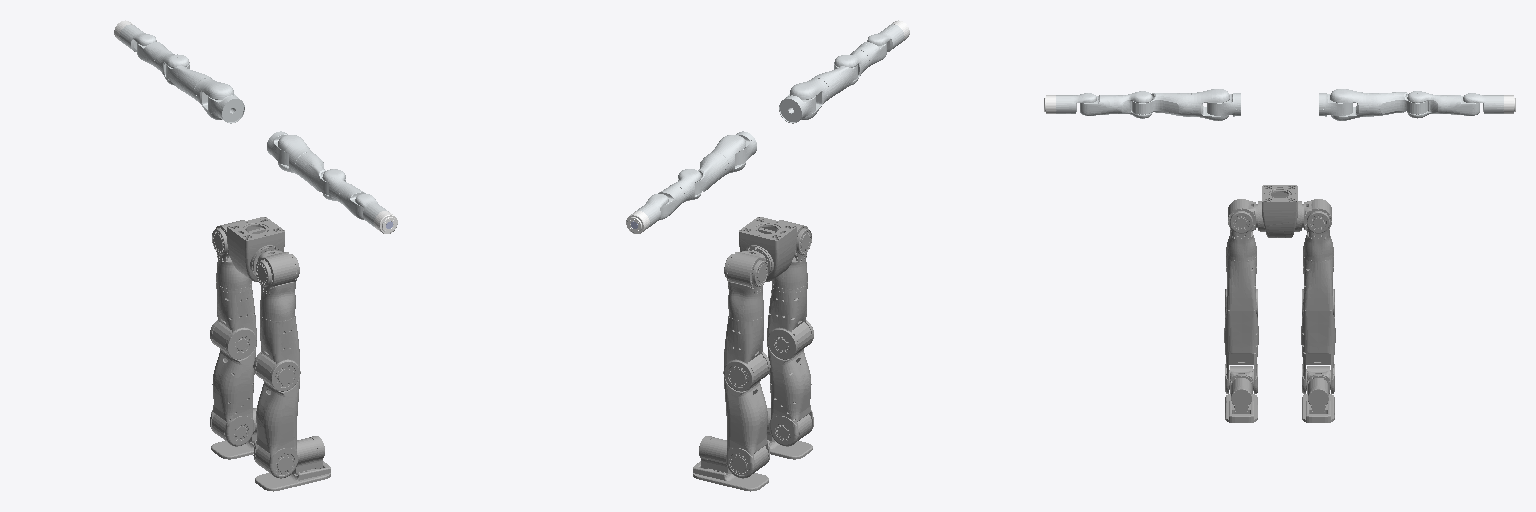
--- What the picture shows (computed from the rendered views, not written in the file) ---
The picture shows the robot from 3 angles, left to right: view 1: azimuth 30°, elevation 25°; view 2: azimuth 150°, elevation 25°; view 3: azimuth 270°, elevation 25°; orthographic projection.
Robot: jaka_humanoid — 31 links, 30 joints (12 revolute, 18 fixed); root link base_geom; default pose: all joints at 0.
Visible links, largest first — view 1: right_knee_link, left_knee_link, right_hip_yaw_link, left_hip_yaw_link, base_link, right_ankle_roll_link, right_hip_roll_link, left_hip_roll_link, right_hip_pitch_link, arm-r3, arm-l2, arm-l1 (+6 smaller); view 2: left_knee_link, right_knee_link, left_hip_yaw_link, right_hip_yaw_link, base_link, left_ankle_roll_link, left_hip_roll_link, right_hip_roll_link, left_hip_pitch_link, arm-l3, arm-r2, arm-r1 (+6 smaller); view 3: base_link, left_knee_link, right_knee_link, left_hip_yaw_link, right_hip_yaw_link, left_ankle_roll_link, right_ankle_roll_link, left_hip_roll_link, right_hip_roll_link, arm-l3, arm-r3, arm-l2 (+9 smaller).
Link boxes in pixels (left/top/right/bottom): right_knee_link: left=253, top=354, right=300, bottom=478; left_knee_link: left=210, top=322, right=256, bottom=446; right_hip_yaw_link: left=253, top=315, right=299, bottom=391; left_hip_yaw_link: left=210, top=282, right=256, bottom=359; base_link: left=227, top=217, right=284, bottom=281; right_ankle_roll_link: left=255, top=436, right=330, bottom=491; right_hip_roll_link: left=256, top=254, right=299, bottom=320; left_hip_roll_link: left=212, top=228, right=251, bottom=288; right_hip_pitch_link: left=258, top=250, right=296, bottom=287; arm-r3: left=295, top=152, right=345, bottom=194; arm-l2: left=194, top=78, right=233, bottom=119; arm-l1: left=208, top=94, right=244, bottom=123; left_knee_link: left=723, top=354, right=769, bottom=478; right_knee_link: left=767, top=322, right=813, bottom=446; left_hip_yaw_link: left=724, top=315, right=770, bottom=391; right_hip_yaw_link: left=767, top=282, right=813, bottom=359; base_link: left=739, top=217, right=796, bottom=281; left_ankle_roll_link: left=693, top=436, right=768, bottom=491; left_hip_roll_link: left=724, top=254, right=767, bottom=320; right_hip_roll_link: left=772, top=228, right=811, bottom=288; left_hip_pitch_link: left=727, top=250, right=765, bottom=287; arm-l3: left=678, top=152, right=728, bottom=194; arm-r2: left=790, top=78, right=829, bottom=119; arm-r1: left=779, top=94, right=815, bottom=123; base_link: left=1256, top=185, right=1303, bottom=237; left_knee_link: left=1301, top=310, right=1335, bottom=393; right_knee_link: left=1224, top=310, right=1258, bottom=393; left_hip_yaw_link: left=1302, top=256, right=1334, bottom=317; right_hip_yaw_link: left=1225, top=256, right=1257, bottom=317; left_ankle_roll_link: left=1302, top=378, right=1334, bottom=422; right_ankle_roll_link: left=1225, top=378, right=1257, bottom=422; left_hip_roll_link: left=1303, top=211, right=1333, bottom=260; right_hip_roll_link: left=1226, top=211, right=1256, bottom=260; arm-l3: left=1369, top=92, right=1427, bottom=116; arm-r3: left=1132, top=93, right=1190, bottom=116; arm-l2: left=1330, top=89, right=1368, bottom=120.
Bounding box of the posed robot: 0.3 × 2.05 × 1.49 m (x, y, z).
Meshes: 30 distinct files referenced, 29 mesh visuals loaded (29 binary STL); not drawn: 1 (reference not matched to a file when rendering).

URDF robot description (jaka_humanoid):
<?xml version="1.0" encoding="utf-8"?>
<!-- This URDF was automatically created by SolidWorks to URDF Exporter! Originally created by Stephen Brawner ([email redacted]) 
     Commit Version: 1.6.0-4-g7f85cfe  Build Version: 1.6.7995.38578
     For more information, please see http://wiki.ros.org/sw_urdf_exporter -->
<robot
  name="jaka_humanoid">

  <link name="base_geom">
  </link>
  <joint name="base_fixed_joint" type="fixed">
    <origin xyz="0 0 0" rpy="0 0 -1.5708"/>
    <parent link="base_geom"/>
    <child link="base_link"/>
  </joint>


  <link
    name="base_link">
    <inertial>
      <origin
        xyz="3.56051837431537E-06 0.000113782895444087 0.0103683192174064"
        rpy="0 0 0" />
      <mass
        value="8.534795777719" />
      <inertia
        ixx="0.0313527429203055"
        ixy="-1.01541581029892E-06"
        ixz="-1.07263922262646E-06"
        iyy="0.0504190458696739"
        iyz="-8.99294508164332E-05"
        izz="0.0475793827870453" />
    </inertial>
    <visual>
      <origin
        xyz="0 0 0"
        rpy="0 0 0" />
      <geometry>
        <mesh
          filename="package://jaka_humanoid/meshes/base_link.STL" />
      </geometry>
      <material
        name="">
        <color
          rgba="0.698039215686274 0.698039215686274 0.698039215686274 1" />
      </material>
    </visual>
    <!-- <collision>
      <origin
        xyz="0 0 0"
        rpy="0 0 0" />
      <geometry>
        <mesh
          filename="package://jaka_humanoid/meshes/base_link.STL" />
      </geometry>
    </collision> -->
  </link>
  <link
    name="left_hip_pitch_link">
    <inertial>
      <origin
        xyz="-6.92170643301626E-08 -1.51282743337602E-05 0.059552778136023"
        rpy="0 0 0" />
      <mass
        value="3.9634339446951" />
      <inertia
        ixx="0.00771849424837419"
        ixy="-8.53395660232772E-07"
        ixz="1.46949827377146E-09"
        iyy="0.00782429269137684"
        iyz="2.08211386353778E-06"
        izz="0.00773849877963618" />
    </inertial>
    <visual>
      <origin
        xyz="0 0 0"
        rpy="0 0 0" />
      <geometry>
        <mesh
          filename="package://jaka_humanoid/meshes/LINK_L1.STL" />
      </geometry>
      <material
        name="">
        <color
          rgba="0.698039215686274 0.698039215686274 0.698039215686274 1" />
      </material>
    </visual>
    <collision>
      <origin
        xyz="0 0 0"
        rpy="0 0 0" />
      <geometry>
        <mesh
          filename="package://jaka_humanoid/meshes/LINK_L1.STL" />
      </geometry>
    </collision>
  </link>
  <joint
    name="left_hip_pitch_joint"
    type="revolute">
    <origin
      xyz="-0.106 0 0"
      rpy="3.1416 1.5708 0" />
    <parent
      link="base_link" />
    <child
      link="left_hip_pitch_link" />
    <axis
      xyz="0 0 1" />
    <limit
      lower="-2"
      upper="2"
      effort="500"
      velocity="30" />
  </joint>
  <link
    name="left_hip_roll_link">
    <inertial>
      <origin
        xyz="-0.00161389199959538 0.109413538339146 0.000486968452788193"
        rpy="0 0 0" />
      <mass
        value="3.77738840138226" />
      <inertia
        ixx="0.017398908144898"
        ixy="-0.000311849670723211"
        ixz="1.39056091881881E-05"
        iyy="0.0097749180467322"
        iyz="-0.000414031288516339"
        izz="0.0146465644838559" />
    </inertial>
    <visual>
      <origin
        xyz="0 0 0"
        rpy="0 0 0" />
      <geometry>
        <mesh
          filename="package://jaka_humanoid/meshes/LINK_L2.STL" />
      </geometry>
      <material
        name="">
        <color
          rgba="0.698039215686274 0.698039215686274 0.698039215686274 1" />
      </material>
    </visual>
    <!-- <collision>
      <origin
        xyz="0 0 0"
        rpy="0 0 0" />
      <geometry>
        <mesh
          filename="package://jaka_humanoid/meshes/LINK_L2.STL" />
      </geometry>
    </collision> -->
  </link>
  <joint
    name="left_hip_roll_joint"
    type="revolute">
    <origin
      xyz="0 0 0.061"
      rpy="1.5708 1.5708 0" />
    <parent
      link="left_hip_pitch_link" />
    <child
      link="left_hip_roll_link" />
    <axis
      xyz="0 0 1" />
    <limit
      lower="-2"
      upper="2"
      effort="500"
      velocity="30" />
  </joint>
  <link
    name="left_hip_yaw_link">
    <inertial>
      <origin
        xyz="0.000700320772332008 0.00969139564417535 -0.135462623259175"
        rpy="0 0 0" />
      <mass
        value="3.59262397650648" />
      <inertia
        ixx="0.0302831726867375"
        ixy="2.76348322471797E-05"
        ixz="0.000252356115220069"
        iyy="0.0324036832512038"
        iyz="0.00149317453880794"
        izz="0.014224840085199" />
    </inertial>
    <visual>
      <origin
        xyz="0 0 0"
        rpy="0 0 0" />
      <geometry>
        <mesh
          filename="package://jaka_humanoid/meshes/LINK_L3.STL" />
      </geometry>
      <material
        name="">
        <color
          rgba="0.698039215686274 0.698039215686274 0.698039215686274 1" />
      </material>
    </visual>
    <collision>
      <origin
        xyz="0 0 0"
        rpy="0 0 0" />
      <geometry>
        <mesh
          filename="package://jaka_humanoid/meshes/LINK_L3.STL" />
      </geometry>
    </collision>
  </link>
  <joint
    name="left_hip_yaw_joint"
    type="revolute">
    <origin
      xyz="0 0.183 0"
      rpy="1.5708 0 0" />
    <parent
      link="left_hip_roll_link" />
    <child
      link="left_hip_yaw_link" />
    <axis
      xyz="0 0 1" />
    <limit
      lower="-2"
      upper="2"
      effort="500"
      velocity="30" />
  </joint>
  <link
    name="left_knee_link">
    <inertial>
      <origin
        xyz="0.111701578307267 0.00355403504398386 0.0512295108100788"
        rpy="0 0 0" />
      <mass
        value="8.60818099327112" />
      <inertia
        ixx="0.0274097334369474"
        ixy="0.00545179651823928"
        ixz="0.000199884218813842"
        iyy="0.168526145595671"
        iyz="-1.74301620560199E-06"
        izz="0.165681955419885" />
    </inertial>
    <visual>
      <origin
        xyz="0 0 0"
        rpy="0 0 0" />
      <geometry>
        <mesh
          filename="package://jaka_humanoid/meshes/LINK_L4.STL" />
      </geometry>
      <material
        name="">
        <color
          rgba="0.698039215686274 0.698039215686274 0.698039215686274 1" />
      </material>
    </visual>
    <!-- <collision>
      <origin
        xyz="0 0 0"
        rpy="0 0 0" />
      <geometry>
        <mesh
          filename="package://jaka_humanoid/meshes/LINK_L4.STL" />
      </geometry>
    </collision> -->
  </link>
  <joint
    name="left_knee_joint"
    type="revolute">
    <origin
      xyz="-0.0516 -0.005 -0.237"
      rpy="0 1.5708 0" />
    <parent
      link="left_hip_yaw_link" />
    <child
      link="left_knee_link" />
    <axis
      xyz="0 0 -1" />
    <limit
      lower="-2"
      upper="2"
      effort="500"
      velocity="30" />
  </joint>
  <link
    name="left_ankle_pitch_link">
    <inertial>
      <origin
        xyz="6.62661078232318E-08 0.00426165224024064 0.0516144830011017"
        rpy="0 0 0" />
      <mass
        value="4.14002049154091" />
      <inertia
        ixx="0.0085990272817376"
        ixy="2.24142896102055E-09"
        ixz="-8.53395641261122E-07"
        iyy="0.00802808945553078"
        iyz="2.25086671400731E-06"
        izz="0.00870709893558791" />
    </inertial>
    <visual>
      <origin
        xyz="0 0 0"
        rpy="0 0 0" />
      <geometry>
        <mesh
          filename="package://jaka_humanoid/meshes/LINK_L5.STL" />
      </geometry>
      <material
        name="">
        <color
          rgba="0.698039215686274 0.698039215686274 0.698039215686274 1" />
      </material>
    </visual>
    <!-- <collision>
      <origin
        xyz="0 0 0"
        rpy="0 0 0" />
      <geometry>
        <mesh
          filename="package://jaka_humanoid/meshes/LINK_L5.STL" />
      </geometry>
    </collision> -->
  </link>
  <joint
    name="left_ankle_pitch_joint"
    type="revolute">
    <origin
      xyz="0.37 -0.005 0"
      rpy="0 0 0" />
    <parent
      link="left_knee_link" />
    <child
      link="left_ankle_pitch_link" />
    <axis
      xyz="0 0 -1" />
    <limit
      lower="-2"
      upper="2"
      effort="500"
      velocity="30" />
  </joint>
  <link
    name="left_ankle_roll_link">
    <inertial>
      <origin
        xyz="5.58153339869083E-06 0.0507733542549267 -0.0331828584344808"
        rpy="0 0 0" />
      <mass
        value="4.46370362417452" />
      <inertia
        ixx="0.0280531352875821"
        ixy="-5.78611601880667E-07"
        ixz="7.74244017617182E-07"
        iyy="0.0225586720016511"
        iyz="-0.00350808779823298"
        izz="0.0150950458764849" />
    </inertial>
    <visual>
      <origin
        xyz="0 0 0"
        rpy="0 0 0" />
      <geometry>
        <mesh
          filename="package://jaka_humanoid/meshes/LINK_L6.STL" />
      </geometry>
      <material
        name="">
        <color
          rgba="0.698039215686274 0.698039215686274 0.698039215686274 1" />
      </material>
    </visual>
    <collision>
      <origin
        xyz="0 0 0"
        rpy="0 0 0" />
      <geometry>
        <mesh
          filename="package://jaka_humanoid/meshes/LINK_L6.STL" />
      </geometry>
    </collision>
  </link>
  <joint
    name="left_ankle_roll_joint"
    type="revolute">
    <origin
      xyz="0 0.0725 0.0516"
      rpy="1.5708 1.5708 0" />
    <parent
      link="left_ankle_pitch_link" />
    <child
      link="left_ankle_roll_link" />
    <axis
      xyz="0 0 -1" />
    <limit
      lower="-2"
      upper="2"
      effort="500"
      velocity="30" />
  </joint>
  <link
    name="right_hip_pitch_link">
    <inertial>
      <origin
        xyz="6.92164925653049E-08 1.51282748375031E-05 0.0595527781372258"
        rpy="0 0 0" />
      <mass
        value="3.96343394458631" />
      <inertia
        ixx="0.00771849424840239"
        ixy="-8.53395477027585E-07"
        ixz="-1.46959496734758E-09"
        iyy="0.0078242926913489"
        iyz="-2.08211379955066E-06"
        izz="0.00773849877951949" />
    </inertial>
    <visual>
      <origin
        xyz="0 0 0"
        rpy="0 0 0" />
      <geometry>
        <mesh
          filename="package://jaka_humanoid/meshes/LINK_R1.STL" />
      </geometry>
      <material
        name="">
        <color
          rgba="0.698039215686274 0.698039215686274 0.698039215686274 1" />
      </material>
    </visual>
    <collision>
      <origin
        xyz="0 0 0"
        rpy="0 0 0" />
      <geometry>
        <mesh
          filename="package://jaka_humanoid/meshes/LINK_R1.STL" />
      </geometry>
    </collision>
  </link>
  <joint
    name="right_hip_pitch_joint"
    type="revolute">
    <origin
      xyz="0.106 0 0"
      rpy="0 1.5708 0" />
    <parent
      link="base_link" />
    <child
      link="right_hip_pitch_link" />
    <axis
      xyz="0 0 -1" />
    <limit
      lower="-2"
      upper="2"
      effort="500"
      velocity="30" />
  </joint>
  <link
    name="right_hip_roll_link">
    <inertial>
      <origin
        xyz="-0.0016146123021254 0.10941376048029 -0.000488039420374099"
        rpy="0 0 0" />
      <mass
        value="3.7773115346162" />
      <inertia
        ixx="0.0173986187585205"
        ixy="-0.000311962535762005"
        ixz="-1.36546661845248E-05"
        iyy="0.00977467337602778"
        iyz="0.000413945427803824"
        izz="0.0146463881285214" />
    </inertial>
    <visual>
      <origin
        xyz="0 0 0"
        rpy="0 0 0" />
      <geometry>
        <mesh
          filename="package://jaka_humanoid/meshes/LINK_R2.STL" />
      </geometry>
      <material
        name="">
        <color
          rgba="0.698039215686274 0.698039215686274 0.698039215686274 1" />
      </material>
    </visual>
    <!-- <collision>
      <origin
        xyz="0 0 0"
        rpy="0 0 0" />
      <geometry>
        <mesh
          filename="package://jaka_humanoid/meshes/LINK_R2.STL" />
      </geometry>
    </collision> -->
  </link>
  <joint
    name="right_hip_roll_joint"
    type="revolute">
    <origin
      xyz="0 0 0.061"
      rpy="1.5708 1.5708 0" />
    <parent
      link="right_hip_pitch_link" />
    <child
      link="right_hip_roll_link" />
    <axis
      xyz="0 0 -1" />
    <limit
      lower="-2"
      upper="2"
      effort="500"
      velocity="30" />
  </joint>
  <link
    name="right_hip_yaw_link">
    <inertial>
      <origin
        xyz="0.000694563219510266 0.00968700464199349 0.135454808018665"
        rpy="0 0 0" />
      <mass
        value="3.59228381979526" />
      <inertia
        ixx="0.0302813066755261"
        ixy="2.86623051709676E-05"
        ixz="-0.000252080563411604"
        iyy="0.0324025678598891"
        iyz="-0.00149175894663388"
        izz="0.0142239522611104" />
    </inertial>
    <visual>
      <origin
        xyz="0 0 0"
        rpy="0 0 0" />
      <geometry>
        <mesh
          filename="package://jaka_humanoid/meshes/LINK_R3.STL" />
      </geometry>
      <material
        name="">
        <color
          rgba="0.698039215686274 0.698039215686274 0.698039215686274 1" />
      </material>
    </visual>
    <collision>
      <origin
        xyz="0 0 0"
        rpy="0 0 0" />
      <geometry>
        <mesh
          filename="package://jaka_humanoid/meshes/LINK_R3.STL" />
      </geometry>
    </collision>
  </link>
  <joint
    name="right_hip_yaw_joint"
    type="revolute">
    <origin
      xyz="0 0.183 0"
      rpy="-1.5708 0 0" />
    <parent
      link="right_hip_roll_link" />
    <child
      link="right_hip_yaw_link" />
    <axis
      xyz="0 0 -1" />
    <limit
      lower="-2"
      upper="2"
      effort="500"
      velocity="30" />
  </joint>
  <link
    name="right_knee_link">
    <inertial>
      <origin
        xyz="-0.111706915749733 0.00355722916941977 0.0512342020264392"
        rpy="0 0 0" />
      <mass
        value="8.60704942954802" />
      <inertia
        ixx="0.0274095605302757"
        ixy="-0.00545320862710574"
        ixz="-0.000200202399919482"
        iyy="0.168527364558603"
        iyz="-4.61122421921428E-07"
        izz="0.165684270845229" />
    </inertial>
    <visual>
      <origin
        xyz="0 0 0"
        rpy="0 0 0" />
      <geometry>
        <mesh
          filename="package://jaka_humanoid/meshes/LINK_R4.STL" />
      </geometry>
      <material
        name="">
        <color
          rgba="0.698039215686274 0.698039215686274 0.698039215686274 1" />
      </material>
    </visual>
    <!-- <collision>
      <origin
        xyz="0 0 0"
        rpy="0 0 0" />
      <geometry>
        <mesh
          filename="package://jaka_humanoid/meshes/LINK_R4.STL" />
      </geometry>
    </collision> -->
  </link>
  <joint
    name="right_knee_joint"
    type="revolute">
    <origin
      xyz="-0.0516 -0.005 0.237"
      rpy="0 1.5708 0" />
    <parent
      link="right_hip_yaw_link" />
    <child
      link="right_knee_link" />
    <axis
      xyz="0 0 1" />
    <limit
      lower="-2"
      upper="2"
      effort="500"
      velocity="30" />
  </joint>
  <link
    name="right_ankle_pitch_link">
    <inertial>
      <origin
        xyz="6.626555804079E-08 0.00426165224182175 0.0516144830002066"
        rpy="0 0 0" />
      <mass
        value="4.14002049181103" />
      <inertia
        ixx="0.00859902728227488"
        ixy="2.24153874992742E-09"
        ixz="-8.53395935267242E-07"
        iyy="0.00802808945618975"
        iyz="2.25086689585563E-06"
        izz="0.00870709893603947" />
    </inertial>
    <visual>
      <origin
        xyz="0 0 0"
        rpy="0 0 0" />
      <geometry>
        <mesh
          filename="package://jaka_humanoid/meshes/LINK_R5.STL" />
      </geometry>
      <material
        name="">
        <color
          rgba="0.698039215686274 0.698039215686274 0.698039215686274 1" />
      </material>
    </visual>
    <!-- <collision>
      <origin
        xyz="0 0 0"
        rpy="0 0 0" />
      <geometry>
        <mesh
          filename="package://jaka_humanoid/meshes/LINK_R5.STL" />
      </geometry>
    </collision> -->
  </link>
  <joint
    name="right_ankle_pitch_joint"
    type="revolute">
    <origin
      xyz="-0.37 -0.005 0"
      rpy="0 0 0" />
    <parent
      link="right_knee_link" />
    <child
      link="right_ankle_pitch_link" />
    <axis
      xyz="0 0 1" />
    <limit
      lower="-2"
      upper="2"
      effort="500"
      velocity="30" />
  </joint>
  <link
    name="right_ankle_roll_link">
    <inertial>
      <origin
        xyz="5.58138622626381E-06 0.0507733541183104 -0.0331828582582943"
        rpy="0 0 0" />
      <mass
        value="4.46370359699783" />
      <inertia
        ixx="0.0280531352513672"
        ixy="-5.78596856192022E-07"
        ixz="7.74224976384728E-07"
        iyy="0.0225586719627204"
        iyz="-0.00350808781584849"
        izz="0.0150950458468419" />
    </inertial>
    <visual>
      <origin
        xyz="0 0 0"
        rpy="0 0 0" />
      <geometry>
        <mesh
          filename="package://jaka_humanoid/meshes/LINK_R6.STL" />
      </geometry>
      <material
        name="">
        <color
          rgba="0.698039215686274 0.698039215686274 0.698039215686274 1" />
      </material>
    </visual>
    <collision>
      <origin
        xyz="0 0 0"
        rpy="0 0 0" />
      <geometry>
        <mesh
          filename="package://jaka_humanoid/meshes/LINK_R6.STL" />
      </geometry>
    </collision>
  </link>
  <joint
    name="right_ankle_roll_joint"
    type="revolute">
    <origin
      xyz="0 0.0725 0.0516"
      rpy="1.5708 -1.5708 0" />
    <parent
      link="right_ankle_pitch_link" />
    <child
      link="right_ankle_roll_link" />
    <axis
      xyz="0 0 -1" />
    <limit
      lower="-2"
      upper="2"
      effort="500"
      velocity="30" />
  </joint>
  <link
    name="BODY_LINK">
    <inertial>
      <origin
        xyz="0.00013734007639013 -0.0111829713535279 0.265745363752393"
        rpy="0 0 0" />
      <mass
        value="33.7486973436404" />
      <inertia
        ixx="0.722787001654969"
        ixy="-4.25713904554049E-05"
        ixz="-0.00139461702876621"
        iyy="0.892302471227267"
        iyz="-0.0285817730855974"
        izz="0.348911176678323" />
    </inertial>
    <visual>
      <origin
        xyz="0 0 0"
        rpy="0 0 0" />
      <geometry>
        <mesh
          filename="package://jaka_humanoid/meshes/BODY_LINK.STL" />
      </geometry>
      <material
        name="">
        <color
          rgba="0.898039215686275 0.917647058823529 0.929411764705882 1" />
      </material>
    </visual>
    <collision>
      <origin
        xyz="0 0 0"
        rpy="0 0 0" />
      <geometry>
        <mesh
          filename="package://jaka_humanoid/meshes/BODY_LINK.STL" />
      </geometry>
    </collision>
  </link>
  <joint
    name="BODY_JOINT"
    type="fixed">
    <origin
      xyz="0 0 0.104"
      rpy="0 0 0" />
    <parent
      link="base_link" />
    <child
      link="BODY_LINK" />
    <axis
      xyz="0 0 1" />
    <limit
      lower="-2"
      upper="2"
      effort="500"
      velocity="30" />
  </joint>
  <link
    name="arm-l1">
    <inertial>
      <origin
        xyz="-2.46089330410704E-06 -2.84970787856054E-07 0.164287024146874"
        rpy="0 0 0" />
      <mass
        value="1.49079078470917" />
      <inertia
        ixx="0.00305951889689234"
        ixy="1.23224145484232E-07"
        ixz="4.7234806846658E-08"
        iyy="0.00378376232211114"
        iyz="-3.76862388057772E-08"
        izz="0.00212531859055584" />
    </inertial>
    <visual>
      <origin
        xyz="0 0 0"
        rpy="0 0 0" />
      <geometry>
        <mesh
          filename="package://jaka_humanoid/meshes/arm-l1.STL" />
      </geometry>
      <material
        name="">
        <color
          rgba="0.898039215686275 0.917647058823529 0.929411764705882 1" />
      </material>
    </visual>
    <collision>
      <origin
        xyz="0 0 0"
        rpy="0 0 0" />
      <geometry>
        <mesh
          filename="package://jaka_humanoid/meshes/arm-l1.STL" />
      </geometry>
    </collision>
  </link>
  <joint
    name="arm-lj1"
    type="fixed">
    <origin
      xyz="-0.06 0 0.4302"
      rpy="1.5708 0 -1.5708" />
    <parent
      link="BODY_LINK" />
    <child
      link="arm-l1" />
    <axis
      xyz="0 0 1" />
    <limit
      lower="-2"
      upper="2"
      effort="500"
      velocity="30" />
  </joint>
  <link
    name="arm-l2">
    <inertial>
      <origin
        xyz="1.7109844037938E-05 -0.0452985718637721 -0.000762954989173337"
        rpy="0 0 0" />
      <mass
        value="2.70256303290924" />
      <inertia
        ixx="0.00984922869542074"
        ixy="3.34426654213901E-06"
        ixz="1.15726850653024E-09"
        iyy="0.00588632041233297"
        iyz="9.35439353884173E-05"
        izz="0.00747853188064791" />
    </inertial>
    <visual>
      <origin
        xyz="0 0 0"
        rpy="0 0 0" />
      <geometry>
        <mesh
          filename="package://jaka_humanoid/meshes/arm-l2.STL" />
      </geometry>
      <material
        name="">
        <color
          rgba="0.898039215686275 0.917647058823529 0.929411764705882 1" />
      </material>
    </visual>
    <collision>
      <origin
        xyz="0 0 0"
        rpy="0 0 0" />
      <geometry>
        <mesh
          filename="package://jaka_humanoid/meshes/arm-l2.STL" />
      </geometry>
    </collision>
  </link>
  <joint
    name="arm-lj2"
    type="fixed">
    <origin
      xyz="0 0 0.2075"
      rpy="-1.5708 0 0" />
    <parent
      link="arm-l1" />
    <child
      link="arm-l2" />
    <axis
      xyz="0 0 1" />
    <limit
      lower="-2"
      upper="2"
      effort="500"
      velocity="30" />
  </joint>
  <link
    name="arm-l3">
    <inertial>
      <origin
        xyz="-0.00699744559038216 -0.000446274066820407 0.236701003976312"
        rpy="0 0 0" />
      <mass
        value="3.54789151265847" />
      <inertia
        ixx="0.0185299009076935"
        ixy="1.22432465180445E-06"
        ixz="0.000124494468855343"
        iyy="0.0186988857026103"
        iyz="-1.68802472982149E-05"
        izz="0.00375500734997881" />
    </inertial>
    <visual>
      <origin
        xyz="0 0 0"
        rpy="0 0 0" />
      <geometry>
        <mesh
          filename="package://jaka_humanoid/meshes/arm-l3.STL" />
      </geometry>
      <material
        name="">
        <color
          rgba="0.898039215686275 0.917647058823529 0.929411764705882 1" />
      </material>
    </visual>
    <collision>
      <origin
        xyz="0 0 0"
        rpy="0 0 0" />
      <geometry>
        <mesh
          filename="package://jaka_humanoid/meshes/arm-l3.STL" />
      </geometry>
    </collision>
  </link>
  <joint
    name="arm-lj3"
    type="fixed">
    <origin
      xyz="0 0 0"
      rpy="-1.5708 0 -3.1416" />
    <parent
      link="arm-l2" />
    <child
      link="arm-l3" />
    <axis
      xyz="0 0 1" />
    <limit
      lower="-2"
      upper="2"
      effort="500"
      velocity="30" />
  </joint>
  <link
    name="arm-l4">
    <inertial>
      <origin
        xyz="0.00464516953010592 -0.0316039283529114 0.000428142213802829"
        rpy="0 0 0" />
      <mass
        value="1.47374287378551" />
      <inertia
        ixx="0.00379329555273283"
        ixy="0.000160245369673316"
        ixz="2.06610249481922E-07"
        iyy="0.00225584846210298"
        iyz="8.03453868461583E-06"
        izz="0.00281134624088121" />
    </inertial>
    <visual>
      <origin
        xyz="0 0 0"
        rpy="0 0 0" />
      <geometry>
        <mesh
          filename="package://jaka_humanoid/meshes/arm-l4.STL" />
      </geometry>
      <material
        name="">
        <color
          rgba="0.898039215686275 0.917647058823529 0.929411764705882 1" />
      </material>
    </visual>
    <collision>
      <origin
        xyz="0 0 0"
        rpy="0 0 0" />
      <geometry>
        <mesh
          filename="package://jaka_humanoid/meshes/arm-l4.STL" />
      </geometry>
    </collision>
  </link>
  <joint
    name="arm-lj4"
    type="fixed">
    <origin
      xyz="0.00040027 0 0.33028"
      rpy="-1.5708 0 3.1416" />
    <parent
      link="arm-l3" />
    <child
      link="arm-l4" />
    <axis
      xyz="0 0 1" />
    <limit
      lower="-2"
      upper="2"
      effort="500"
      velocity="30" />
  </joint>
  <link
    name="arm-l5">
    <inertial>
      <origin
        xyz="-2.28024774949487E-06 0.00408004171070475 0.183530036849259"
        rpy="0 0 0" />
      <mass
        value="2.28087734206239" />
      <inertia
        ixx="0.00549251858394413"
        ixy="1.60017198738006E-07"
        ixz="1.71172962810271E-07"
        iyy="0.00557865414731656"
        iyz="-0.00038426086153489"
        izz="0.00195901367824945" />
    </inertial>
    <visual>
      <origin
        xyz="0 0 0"
        rpy="0 0 0" />
      <geometry>
        <mesh
          filename="package://jaka_humanoid/meshes/arm-l5.STL" />
      </geometry>
      <material
        name="">
        <color
          rgba="0.898039215686275 0.917647058823529 0.929411764705882 1" />
      </material>
    </visual>
    <collision>
      <origin
        xyz="0 0 0"
        rpy="0 0 0" />
      <geometry>
        <mesh
          filename="package://jaka_humanoid/meshes/arm-l5.STL" />
      </geometry>
    </collision>
  </link>
  <joint
    name="arm-lj5"
    type="fixed">
    <origin
      xyz="0 0 0"
      rpy="-1.5708 0 3.1416" />
    <parent
      link="arm-l4" />
    <child
      link="arm-l5" />
    <axis
      xyz="0 0 1" />
    <limit
      lower="-2"
      upper="2"
      effort="500"
      velocity="30" />
  </joint>
  <link
    name="arm-l6">
    <inertial>
      <origin
        xyz="-2.14081846389158E-07 -0.0803636128317545 0.00616002744150357"
        rpy="0 0 0" />
      <mass
        value="1.58792603771551" />
      <inertia
        ixx="0.00366000115507612"
        ixy="2.25894931082097E-08"
        ixz="7.18926190526462E-09"
        iyy="0.00142870340307534"
        iyz="-0.000705165358365624"
        izz="0.00347714999503412" />
    </inertial>
    <visual>
      <origin
        xyz="0 0 0"
        rpy="0 0 0" />
      <geometry>
        <mesh
          filename="package://jaka_humanoid/meshes/arm-l6.STL" />
      </geometry>
      <material
        name="">
        <color
          rgba="0.898039215686275 0.917647058823529 0.929411764705882 1" />
      </material>
    </visual>
    <collision>
      <origin
        xyz="0 0 0"
        rpy="0 0 0" />
      <geometry>
        <mesh
          filename="package://jaka_humanoid/meshes/arm-l6.STL" />
      </geometry>
    </collision>
  </link>
  <joint
    name="arm-lj6"
    type="fixed">
    <origin
      xyz="0 0 0.23494"
      rpy="-1.5708 0 -3.1416" />
    <parent
      link="arm-l5" />
    <child
      link="arm-l6" />
    <axis
      xyz="0 0 1" />
    <limit
      lower="-2"
      upper="2"
      effort="500"
      velocity="30" />
  </joint>
  <link
    name="arm-l7">
    <inertial>
      <origin
        xyz="2.69436503518017E-07 -2.95979202020735E-05 0.164217274875879"
        rpy="0 0 0" />
      <mass
        value="0.634983447813082" />
      <inertia
        ixx="0.000369700889597726"
        ixy="-7.65481275286183E-20"
        ixz="-1.05007339976448E-17"
        iyy="0.000370207331921778"
        iyz="4.29757109352668E-07"
        izz="0.000512144748392785" />
    </inertial>
    <visual>
      <origin
        xyz="0 0 0"
        rpy="0 0 0" />
      <geometry>
        <mesh
          filename="package://jaka_humanoid/meshes/arm-l7.STL" />
      </geometry>
      <material
        name="">
        <color
          rgba="1 1 1 1" />
      </material>
    </visual>
    <collision>
      <origin
        xyz="0 0 0"
        rpy="0 0 0" />
      <geometry>
        <mesh
          filename="package://jaka_humanoid/meshes/arm-l7.STL" />
      </geometry>
    </collision>
  </link>
  <joint
    name="arm-lj7"
    type="fixed">
    <origin
      xyz="0 0 0"
      rpy="1.5708 0 0" />
    <parent
      link="arm-l6" />
    <child
      link="arm-l7" />
    <axis
      xyz="0 0 1" />
    <limit
      lower="-2"
      upper="2"
      effort="500"
      velocity="30" />
  </joint>
  <link
    name="arm-lt">
    <inertial>
      <origin
        xyz="5.55111512312578E-17 6.03031846679869E-10 -0.00099999999999989"
        rpy="0 0 0" />
      <mass
        value="0.00155862265526229" />
      <inertia
        ixx="9.7178498990338E-08"
        ixy="4.26142661000391E-27"
        ixz="-7.09361850234105E-21"
        iyy="9.71784989903729E-08"
        iyz="-5.79751342725907E-14"
        izz="1.93317916210466E-07" />
    </inertial>
    <visual>
      <origin
        xyz="0 0 0"
        rpy="0 0 0" />
      <geometry>
        <mesh
          filename="package://jaka_humanoid/meshes/arm-lt.STL" />
      </geometry>
      <material
        name="">
        <color
          rgba="0.792156862745098 0.819607843137255 0.933333333333333 1" />
      </material>
    </visual>
    <collision>
      <origin
        xyz="0 0 0"
        rpy="0 0 0" />
      <geometry>
        <mesh
          filename="package://jaka_humanoid/meshes/arm-lt.STL" />
      </geometry>
    </collision>
  </link>
  <joint
    name="arm-ljt"
    type="fixed">
    <origin
      xyz="0 0 0.19077"
      rpy="0 0 0" />
    <parent
      link="arm-l7" />
    <child
      link="arm-lt" />
    <axis
      xyz="0 0 0" />
  </joint>
  <link
    name="arm-r1">
    <inertial>
      <origin
        xyz="2.46089331307903E-06 2.84970779862448E-07 0.16428702414733"
        rpy="0 0 0" />
      <mass
        value="1.4907907847092" />
      <inertia
        ixx="0.00305951889689245"
        ixy="1.23224145462198E-07"
        ixz="-4.72348068440876E-08"
        iyy="0.00378376232211126"
        iyz="3.76862386712988E-08"
        izz="0.00212531859055588" />
    </inertial>
    <visual>
      <origin
        xyz="0 0 0"
        rpy="0 0 0" />
      <geometry>
        <mesh
          filename="package://jaka_humanoid/meshes/arm-r1.STL" />
      </geometry>
      <material
        name="">
        <color
          rgba="0.898039215686275 0.917647058823529 0.929411764705882 1" />
      </material>
    </visual>
    <collision>
      <origin
        xyz="0 0 0"
        rpy="0 0 0" />
      <geometry>
        <mesh
          filename="package://jaka_humanoid/meshes/arm-r1.STL" />
      </geometry>
    </collision>
  </link>
  <joint
    name="arm-rj1"
    type="fixed">
    <origin
      xyz="0.06 0 0.4302"
      rpy="1.5708 0 1.5708" />
    <parent
      link="BODY_LINK" />
    <child
      link="arm-r1" />
    <axis
      xyz="0 0 1" />
    <limit
      lower="-2"
      upper="2"
      effort="500"
      velocity="30" />
  </joint>
  <link
    name="arm-r2">
    <inertial>
      <origin
        xyz="1.7109844001835E-05 -0.0452985718642643 -0.000762954989178555"
        rpy="0 0 0" />
      <mass
        value="2.70256303290934" />
      <inertia
        ixx="0.0098492286954209"
        ixy="3.34426654176547E-06"
        ixz="1.15726845506335E-09"
        iyy="0.0058863204123332"
        iyz="9.35439353883321E-05"
        izz="0.00747853188064819" />
    </inertial>
    <visual>
      <origin
        xyz="0 0 0"
        rpy="0 0 0" />
      <geometry>
        <mesh
          filename="package://jaka_humanoid/meshes/arm-r2.STL" />
      </geometry>
      <material
        name="">
        <color
          rgba="0.898039215686275 0.917647058823529 0.929411764705882 1" />
      </material>
    </visual>
    <collision>
      <origin
        xyz="0 0 0"
        rpy="0 0 0" />
      <geometry>
        <mesh
          filename="package://jaka_humanoid/meshes/arm-r2.STL" />
      </geometry>
    </collision>
  </link>
  <joint
    name="arm-rj2"
    type="fixed">
    <origin
      xyz="0 0 0.2075"
      rpy="-1.5708 0 3.1416" />
    <parent
      link="arm-r1" />
    <child
      link="arm-r2" />
    <axis
      xyz="0 0 1" />
    <limit
      lower="-2"
      upper="2"
      effort="500"
      velocity="30" />
  </joint>
  <link
    name="arm-r3">
    <inertial>
      <origin
        xyz="0.00699744558994671 0.000445736586063172 0.236701004986568"
        rpy="0 0 0" />
      <mass
        value="3.54789151268406" />
      <inertia
        ixx="0.0185299009074185"
        ixy="1.22460738296824E-06"
        ixz="-0.000124494466263207"
        iyy="0.0186988856256308"
        iyz="1.69141808217164E-05"
        izz="0.00375500742679508" />
    </inertial>
    <visual>
      <origin
        xyz="0 0 0"
        rpy="0 0 0" />
      <geometry>
        <mesh
          filename="package://jaka_humanoid/meshes/arm-r3.STL" />
      </geometry>
      <material
        name="">
        <color
          rgba="0.898039215686275 0.917647058823529 0.929411764705882 1" />
      </material>
    </visual>
    <collision>
      <origin
        xyz="0 0 0"
        rpy="0 0 0" />
      <geometry>
        <mesh
          filename="package://jaka_humanoid/meshes/arm-r3.STL" />
      </geometry>
    </collision>
  </link>
  <joint
    name="arm-rj3"
    type="fixed">
    <origin
      xyz="0 0 0"
      rpy="1.5708 0 0" />
    <parent
      link="arm-r2" />
    <child
      link="arm-r3" />
    <axis
      xyz="0 0 1" />
    <limit
      lower="-2"
      upper="2"
      effort="500"
      velocity="30" />
  </joint>
  <link
    name="arm-r4">
    <inertial>
      <origin
        xyz="0.00464517591591148 -0.0316040840757925 0.000428238492313104"
        rpy="0 0 0" />
      <mass
        value="1.47374201793622" />
      <inertia
        ixx="0.00379329094146422"
        ixy="0.000160244415781904"
        ixz="2.07234499079314E-07"
        iyy="0.00225584681208052"
        iyz="8.03201567915385E-06"
        izz="0.00281134306624416" />
    </inertial>
    <visual>
      <origin
        xyz="0 0 0"
        rpy="0 0 0" />
      <geometry>
        <mesh
          filename="package://jaka_humanoid/meshes/arm-r4.STL" />
      </geometry>
      <material
        name="">
        <color
          rgba="0.898039215686275 0.917647058823529 0.929411764705882 1" />
      </material>
    </visual>
    <collision>
      <origin
        xyz="0 0 0"
        rpy="0 0 0" />
      <geometry>
        <mesh
          filename="package://jaka_humanoid/meshes/arm-r4.STL" />
      </geometry>
    </collision>
  </link>
  <joint
    name="arm-rj4"
    type="fixed">
    <origin
      xyz="-0.00040027 0 0.33028"
      rpy="-1.5708 0 0" />
    <parent
      link="arm-r3" />
    <child
      link="arm-r4" />
    <axis
      xyz="0 0 1" />
    <limit
      lower="-2"
      upper="2"
      effort="500"
      velocity="30" />
  </joint>
  <link
    name="arm-r5">
    <inertial>
      <origin
        xyz="-2.73577081470744E-06 0.00407883931490616 0.183529506912868"
        rpy="0 0 0" />
      <mass
        value="2.28081200666416" />
      <inertia
        ixx="0.00549240002759694"
        ixy="2.02933287543883E-07"
        ixz="1.92989658554136E-07"
        iyy="0.00557858764336004"
        iyz="-0.0003841922444168"
        izz="0.00195892105469368" />
    </inertial>
    <visual>
      <origin
        xyz="0 0 0"
        rpy="0 0 0" />
      <geometry>
        <mesh
          filename="package://jaka_humanoid/meshes/arm-r5.STL" />
      </geometry>
      <material
        name="">
        <color
          rgba="0.898039215686275 0.917647058823529 0.929411764705882 1" />
      </material>
    </visual>
    <collision>
      <origin
        xyz="0 0 0"
        rpy="0 0 0" />
      <geometry>
        <mesh
          filename="package://jaka_humanoid/meshes/arm-r5.STL" />
      </geometry>
    </collision>
  </link>
  <joint
    name="arm-rj5"
    type="fixed">
    <origin
      xyz="0 0 0"
      rpy="1.5708 0 0" />
    <parent
      link="arm-r4" />
    <child
      link="arm-r5" />
    <axis
      xyz="0 0 1" />
    <limit
      lower="-2"
      upper="2"
      effort="500"
      velocity="30" />
  </joint>
  <link
    name="arm-r6">
    <inertial>
      <origin
        xyz="-2.14082035737695E-07 -0.080363595139343 0.00615553189983786"
        rpy="0 0 0" />
      <mass
        value="1.5879260377349" />
      <inertia
        ixx="0.00366000115518685"
        ixy="2.25895321396928E-08"
        ixz="7.18919548911259E-09"
        iyy="0.0014286993501888"
        iyz="-0.000705159471653687"
        izz="0.00347715404809764" />
    </inertial>
    <visual>
      <origin
        xyz="0 0 0"
        rpy="0 0 0" />
      <geometry>
        <mesh
          filename="package://jaka_humanoid/meshes/arm-r6.STL" />
      </geometry>
      <material
        name="">
        <color
          rgba="0.898039215686275 0.917647058823529 0.929411764705882 1" />
      </material>
    </visual>
    <collision>
      <origin
        xyz="0 0 0"
        rpy="0 0 0" />
      <geometry>
        <mesh
          filename="package://jaka_humanoid/meshes/arm-r6.STL" />
      </geometry>
    </collision>
  </link>
  <joint
    name="arm-rj6"
    type="fixed">
    <origin
      xyz="0 0 0.23494"
      rpy="-1.5708 0 -3.1416" />
    <parent
      link="arm-r5" />
    <child
      link="arm-r6" />
    <axis
      xyz="0 0 1" />
    <limit
      lower="-2"
      upper="2"
      effort="500"
      velocity="30" />
  </joint>
  <link
    name="arm-r7">
    <inertial>
      <origin
        xyz="2.69436562498615E-07 -3.38524873837454E-05 0.164217274971439"
        rpy="0 0 0" />
      <mass
        value="0.63498344781308" />
      <inertia
        ixx="0.000369700889597724"
        ixy="1.28085815926539E-19"
        ixz="4.05201352102206E-17"
        iyy="0.000370207334392976"
        iyz="4.30165001831703E-07"
        izz="0.000512144745921583" />
    </inertial>
    <visual>
      <origin
        xyz="0 0 0"
        rpy="0 0 0" />
      <geometry>
        <mesh
          filename="package://jaka_humanoid/meshes/arm-r7.STL" />
      </geometry>
      <material
        name="">
        <color
          rgba="1 1 1 1" />
      </material>
    </visual>
    <collision>
      <origin
        xyz="0 0 0"
        rpy="0 0 0" />
      <geometry>
        <mesh
          filename="package://jaka_humanoid/meshes/arm-r7.STL" />
      </geometry>
    </collision>
  </link>
  <joint
    name="arm-rj7"
    type="fixed">
    <origin
      xyz="0 0 0"
      rpy="1.5708 0 0" />
    <parent
      link="arm-r6" />
    <child
      link="arm-r7" />
    <axis
      xyz="0 0 1" />
    <limit
      lower="-2"
      upper="2"
      effort="500"
      velocity="30" />
  </joint>
  <link
    name="arm-rt">
    <inertial>
      <origin
        xyz="-2.0122792321331E-16 -2.27071683678304E-09 -0.000999999999998558"
        rpy="0 0 0" />
      <mass
        value="0.0015586226552622" />
      <inertia
        ixx="9.71784989903325E-08"
        ixy="6.21085967898607E-26"
        ixz="2.73548136781045E-20"
        iyy="9.71784989908281E-08"
        iyz="2.18305404600831E-13"
        izz="1.93317916209994E-07" />
    </inertial>
    <visual>
      <origin
        xyz="0 0 0"
        rpy="0 0 0" />
      <geometry>
        <mesh
          filename="package://jaka_humanoid/meshes/arm-rt.STL" />
      </geometry>
      <material
        name="">
        <color
          rgba="0.792156862745098 0.819607843137255 0.933333333333333 1" />
      </material>
    </visual>
    <collision>
      <origin
        xyz="0 0 0"
        rpy="0 0 0" />
      <geometry>
        <mesh
          filename="package://jaka_humanoid/meshes/arm-rt.STL" />
      </geometry>
    </collision>
  </link>
  <joint
    name="ram-rjt"
    type="fixed">
    <origin
      xyz="0 0 0.19077"
      rpy="0 0 0" />
    <parent
      link="arm-r7" />
    <child
      link="arm-rt" />
    <axis
      xyz="0 0 0" />
  </joint>
</robot>
